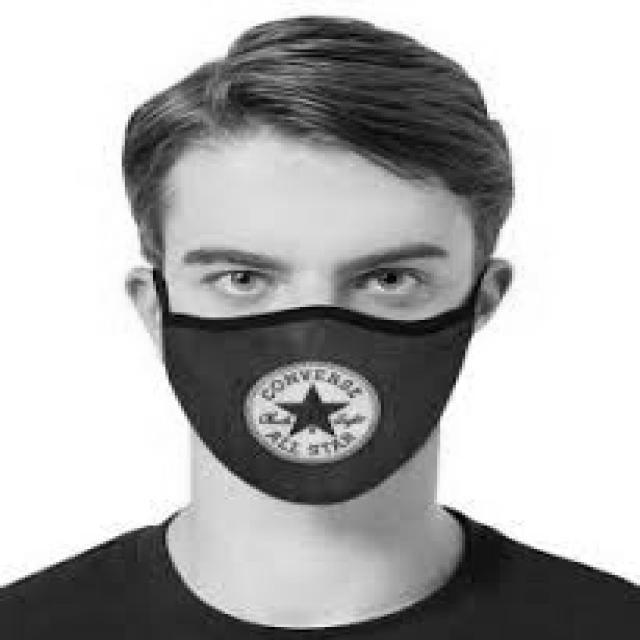fake: (158, 291, 484, 523)
real: (159, 135, 480, 521)
